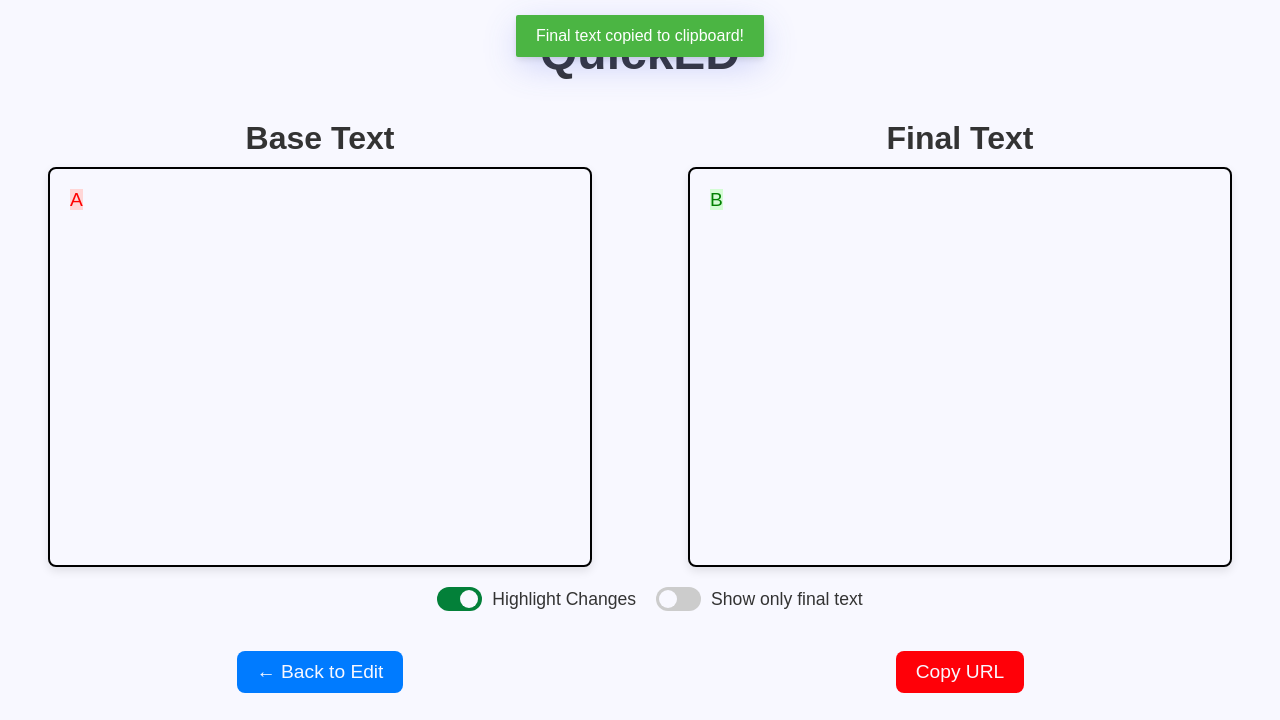
Test: QuickED Component › Toggle switch returns from ShowFinal to ShowBoth
Click the 2nd checkbox. click: coordinates (679, 599)
box: [656,587,701,611]
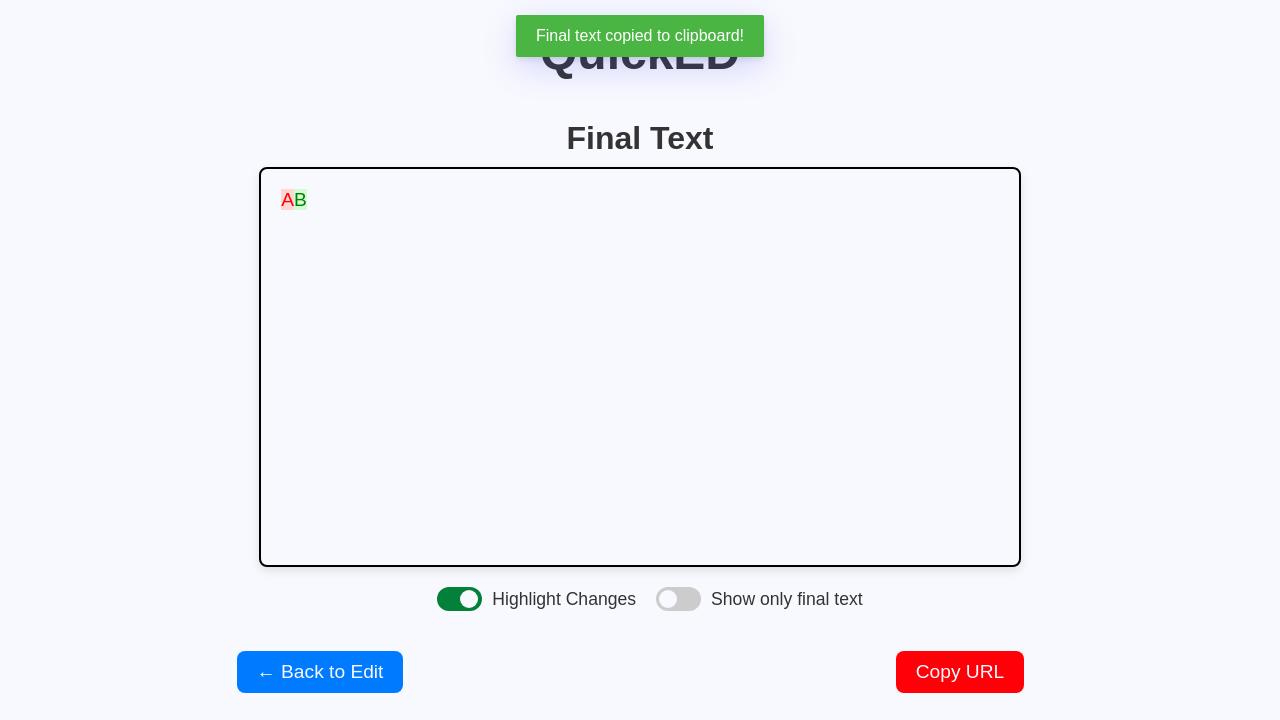
Click the 2nd checkbox. click: coordinates (679, 599)
box: [656,587,701,611]
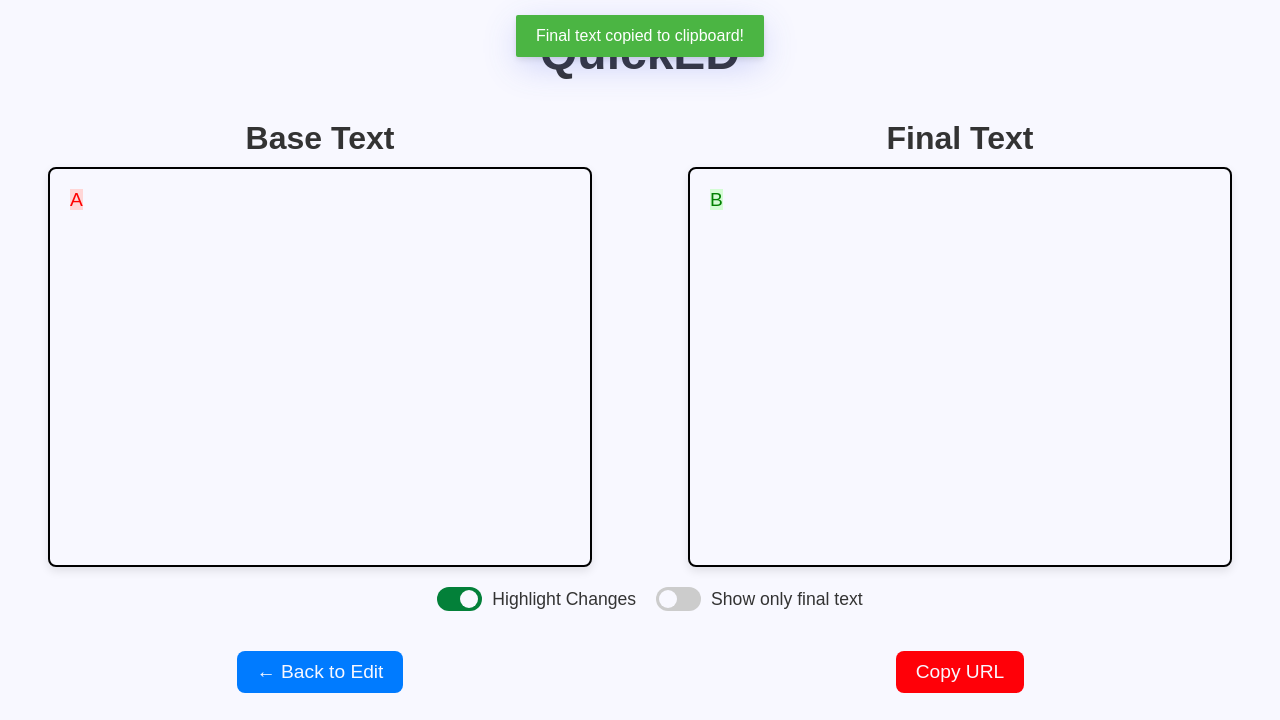
Expected: the heading "Final Text" is shown, [886,120,1034,157]
Expected: the heading "Base Text" is shown, [246,120,394,157]
